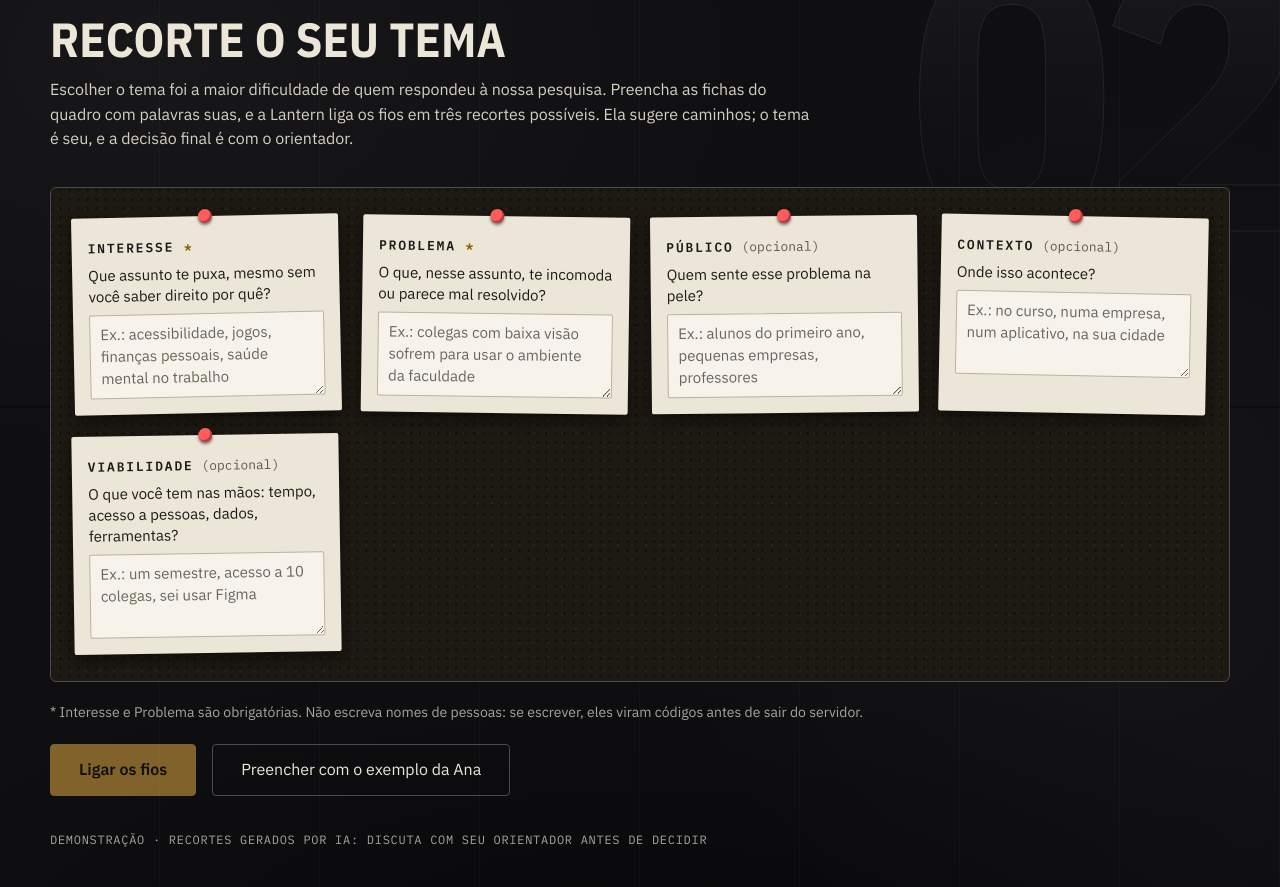
Test case: Sala de Recorte › com o exemplo da Ana, liga os fios e mostra 3 recortes carimbados, levando o foco ao resultado
(page scrolled)
Click the button "Preencher com o exemplo da Ana": coordinates (361, 770) [212,744,510,796]
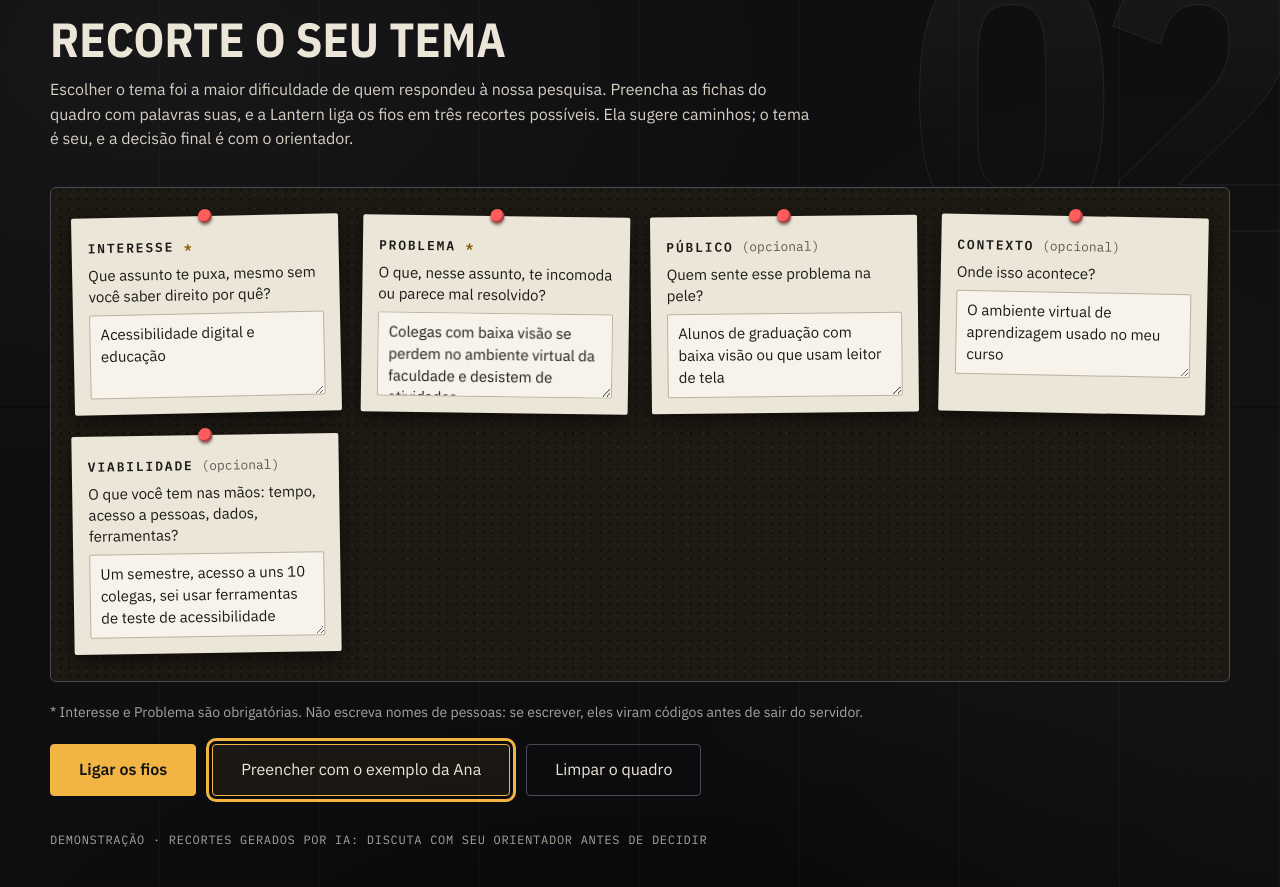
Click the button "Ligar os fios": coordinates (123, 770) [50,744,196,796]
(page scrolled)
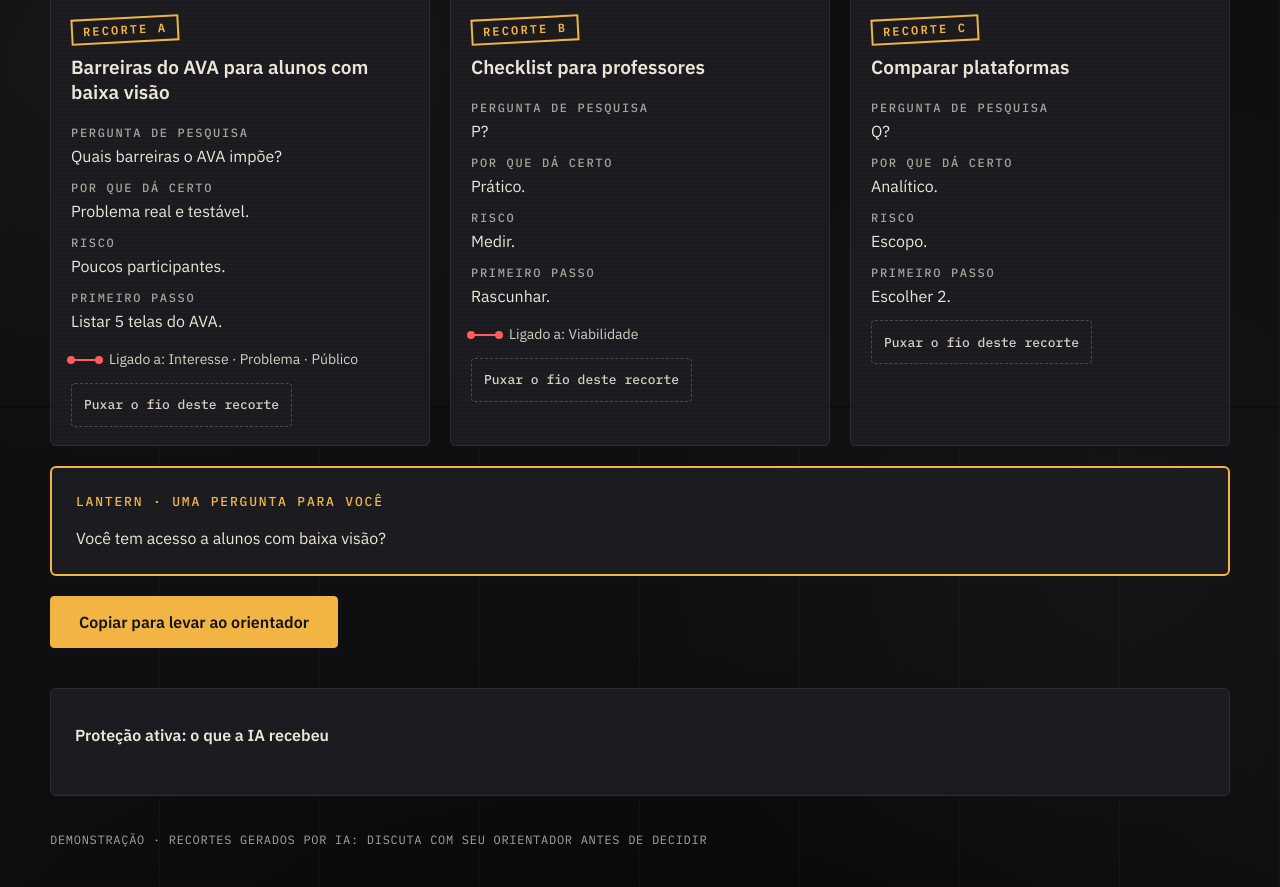
expect the text "Recorte A" is shown: met, box [70,14,180,46]
expect the text "Ligado a: Interesse · Problema · Público" is shown: met, box [71,350,358,368]
expect the text "Você tem acesso a alunos com baixa visão?" is shown: met, box [76,528,386,548]
